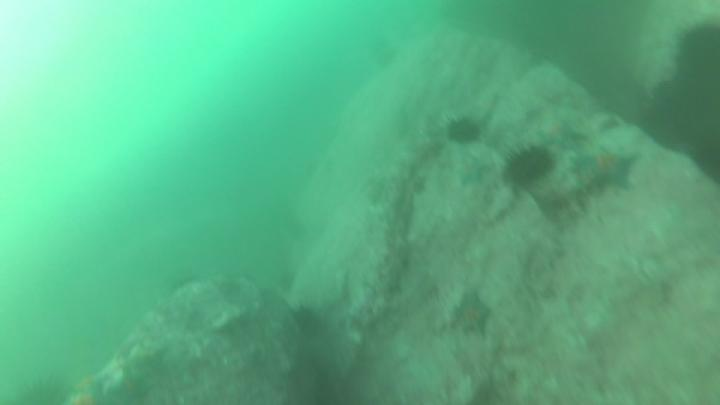echinus: (640, 82, 706, 152), (675, 24, 720, 109), (500, 142, 555, 196), (687, 126, 719, 188), (443, 114, 483, 146), (290, 304, 319, 343)
starfish: (574, 144, 643, 197), (537, 118, 592, 154), (447, 293, 493, 336), (456, 154, 490, 191)
